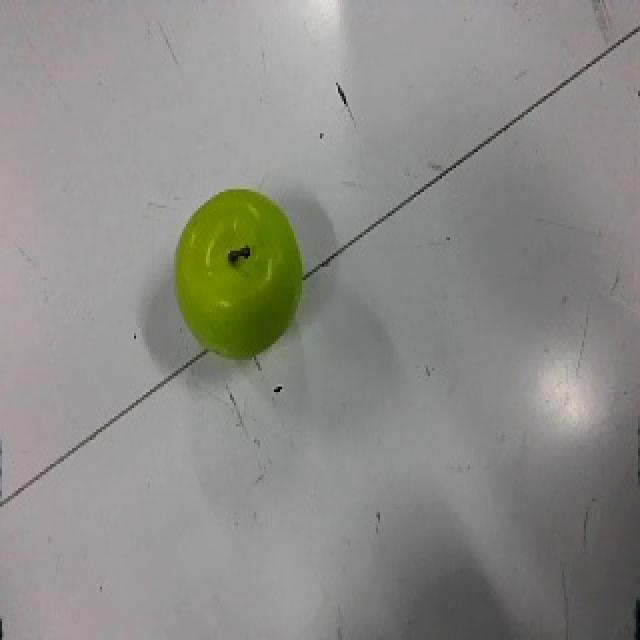apple: (173, 187, 304, 360)
